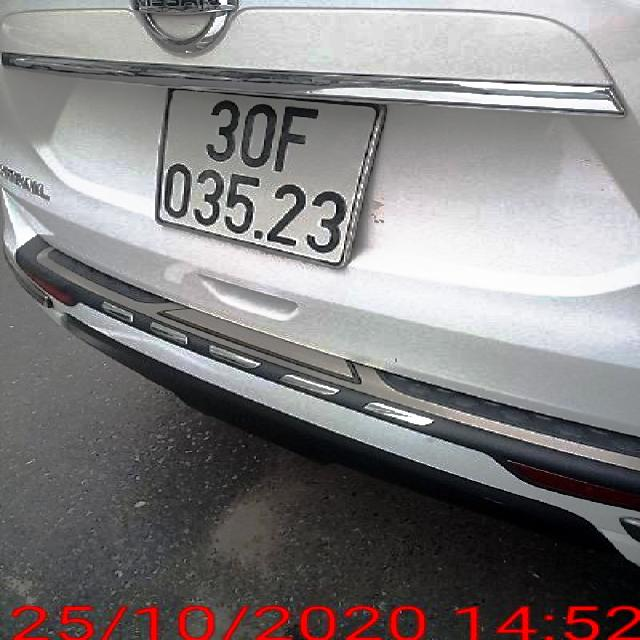license_plate: (159, 92, 384, 269)
